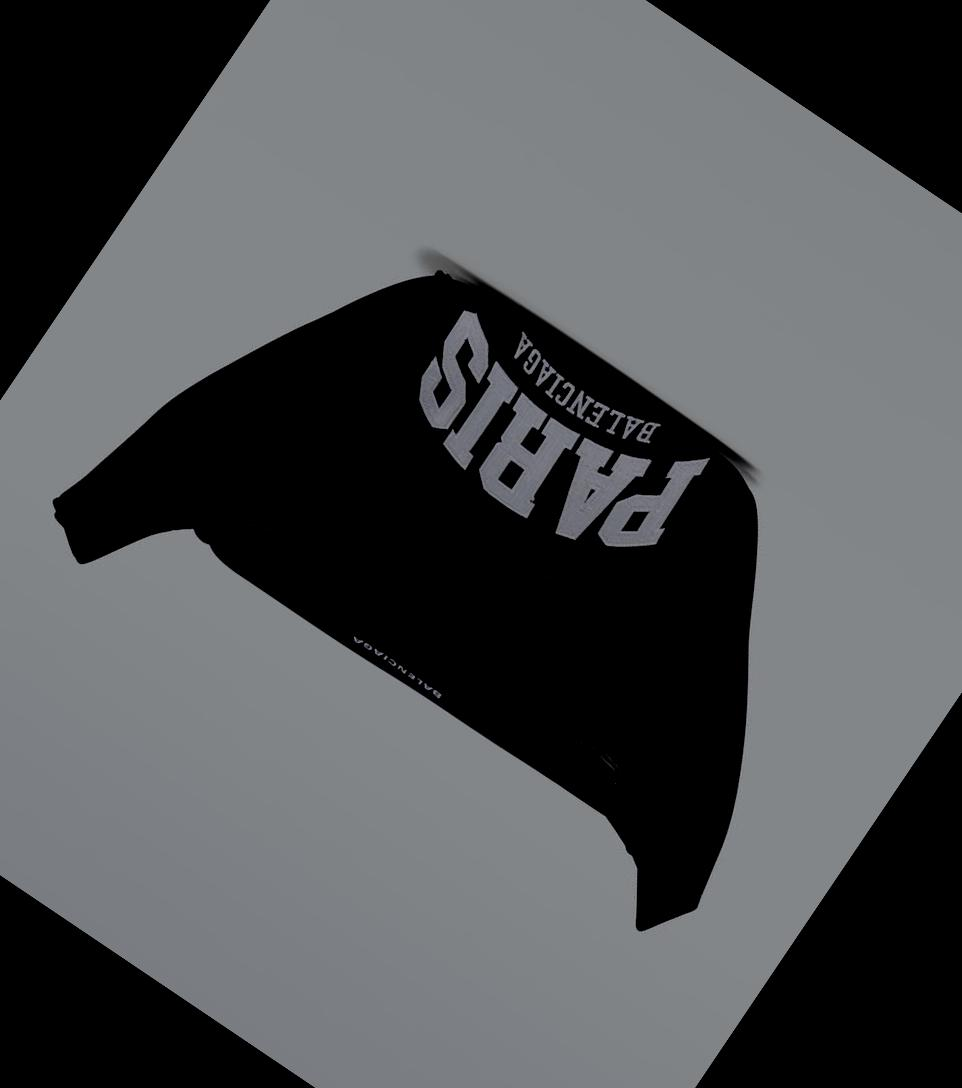BALENCIAGA: (497, 328, 661, 458), (349, 631, 443, 698)
